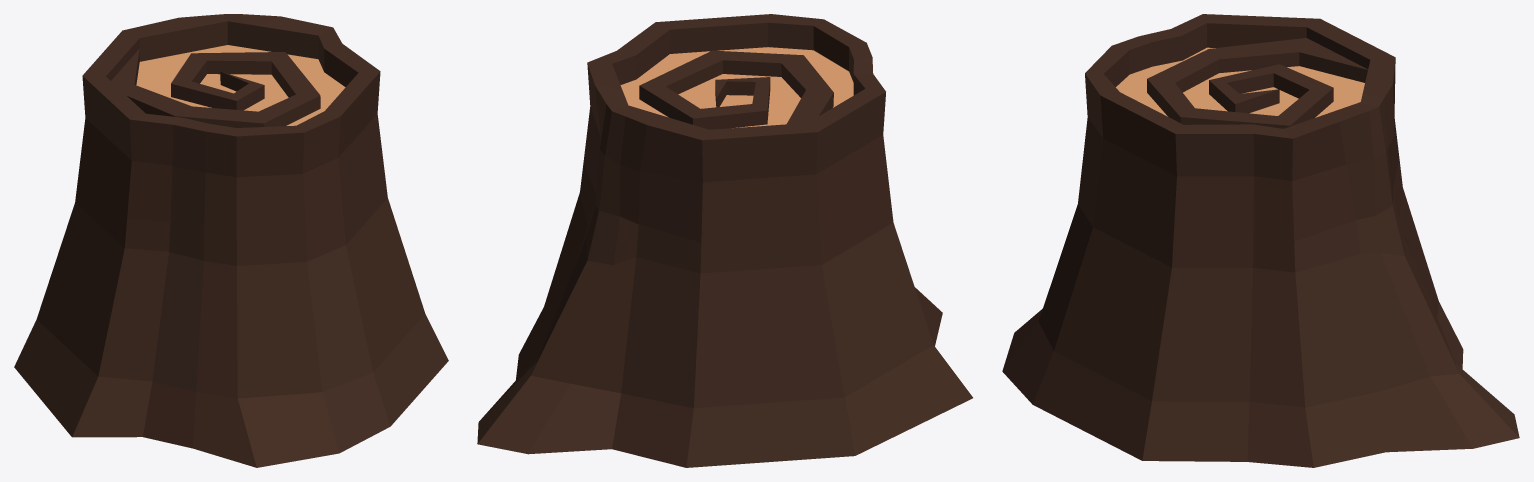
The model's file is trunk.fbx.
3 views of the same model, side by side, from view 1: azimuth 30°, elevation 25°; view 2: azimuth 150°, elevation 25°; view 3: azimuth 270°, elevation 25° (orthographic). The views are drawn at different scales.
Visible parts, largest first — view 1: Cylinder; view 2: Cylinder; view 3: Cylinder.
Boxes of the visible parts, x1,y1,x2,y2 form: Cylinder: [14, 14, 448, 467]; Cylinder: [477, 14, 972, 467]; Cylinder: [1002, 14, 1519, 467].
Size of the model in its own units: 151 by 113 by 175.
